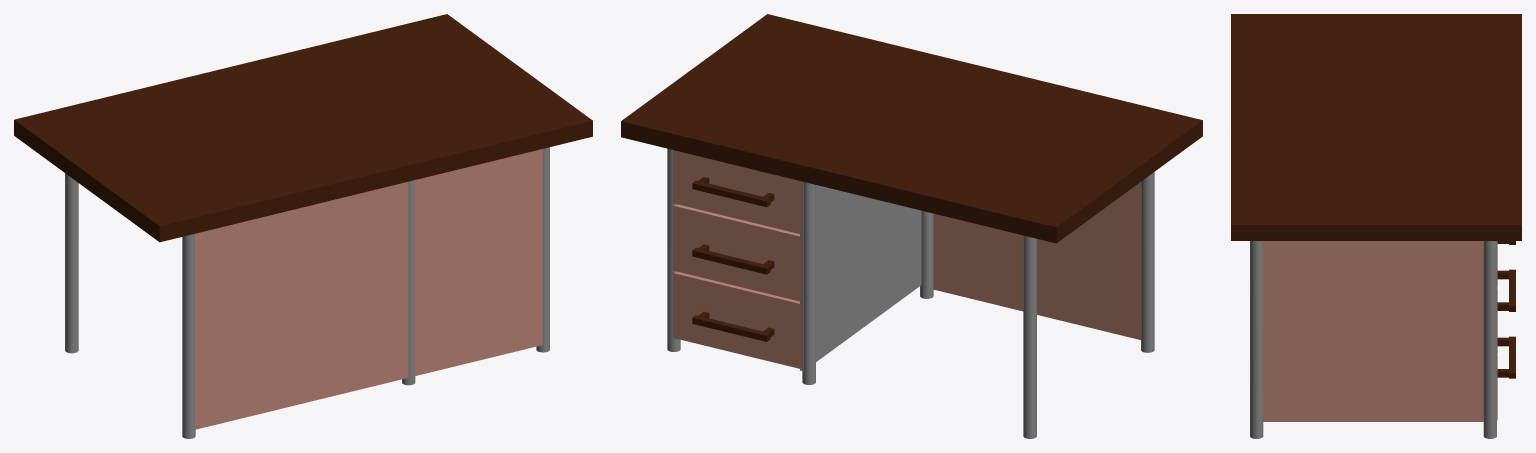
The model's file is desk.obj.
The picture shows the model from 3 angles, left to right: view 1: azimuth 30°, elevation 25°; view 2: azimuth 150°, elevation 25°; view 3: azimuth 270°, elevation 25°; orthographic projection.
Parts seen in each view (by area): view 1: Box029, Box031, Cylinder009, Cylinder011, Cylinder010, Cylinder008; view 2: Box029, Box031, Box023, Box020, Box027, Box032, Cylinder011, Cylinder009, Cylinder012, Cylinder007, Cylinder008, Box021 (+2 smaller); view 3: Box029, Box019, Cylinder007, Cylinder010, Box021, Box018.
Part boxes in pixels (x1,y1,x2,y2): Box029: (14,14,592,242); Box031: (195,149,542,429); Cylinder009: (182,234,195,438); Cylinder011: (65,173,78,353); Cylinder010: (536,147,549,352); Cylinder008: (402,180,415,385); Box029: (621,14,1202,243); Box031: (933,182,1140,339); Box023: (800,181,921,371); Box020: (673,272,802,369); Box027: (673,204,802,301); Box032: (673,150,802,234); Cylinder011: (1023,235,1036,438); Cylinder009: (1141,172,1154,352); Cylinder012: (802,182,815,384); Cylinder007: (667,148,680,351); Cylinder008: (920,211,933,298); Box021: (692,248,770,274); Box029: (1231,14,1521,240); Box019: (1263,241,1483,421); Cylinder007: (1483,241,1496,438); Cylinder010: (1250,241,1263,438); Box021: (1509,269,1515,311); Box018: (1509,336,1515,378).
Size of the model in its own units: 686929 by 347660 by 400027.
